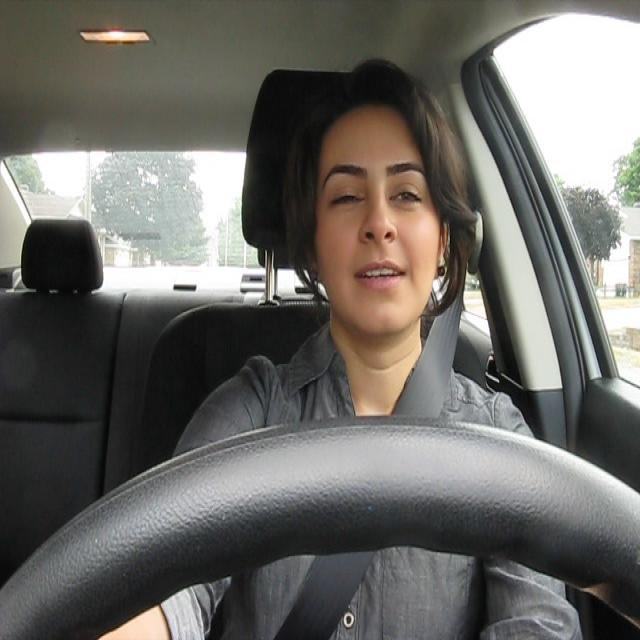Eyeclosed: (332, 187, 364, 214), (392, 184, 421, 211)
